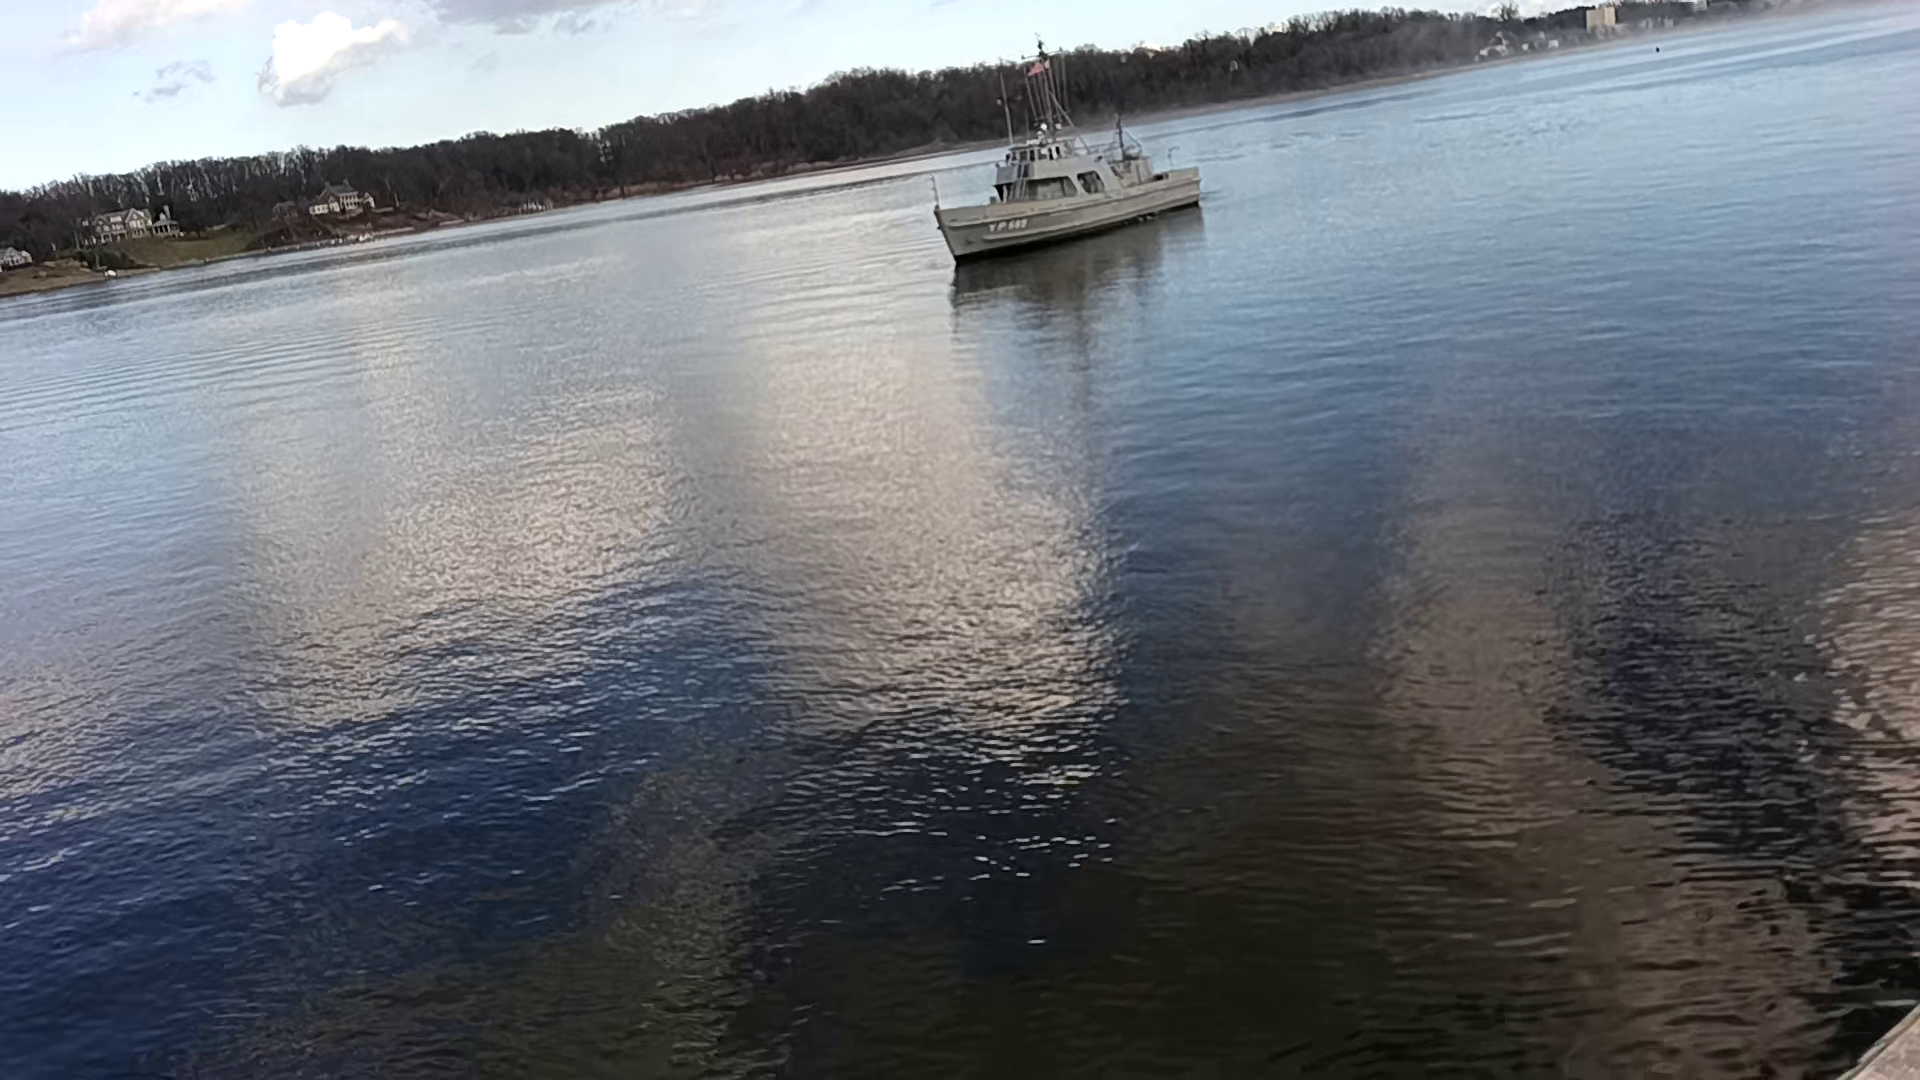YP689: (931, 36, 1204, 266)
